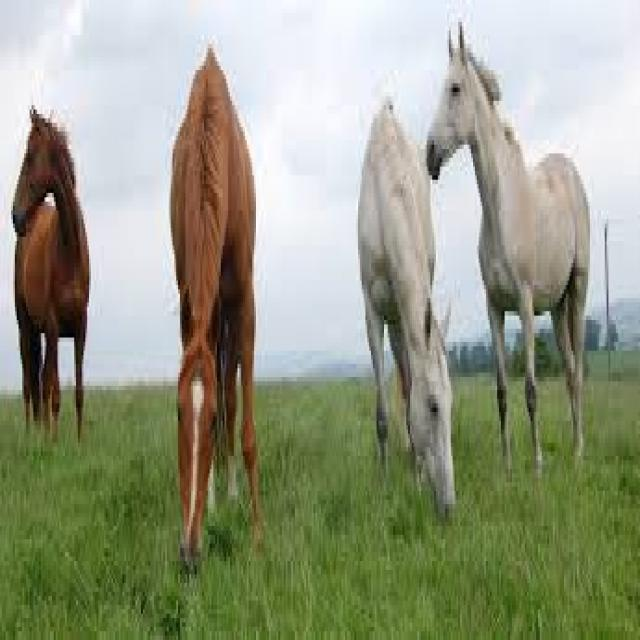horse: (154, 25, 275, 593), (431, 19, 611, 386), (346, 150, 472, 540), (7, 97, 99, 460)
